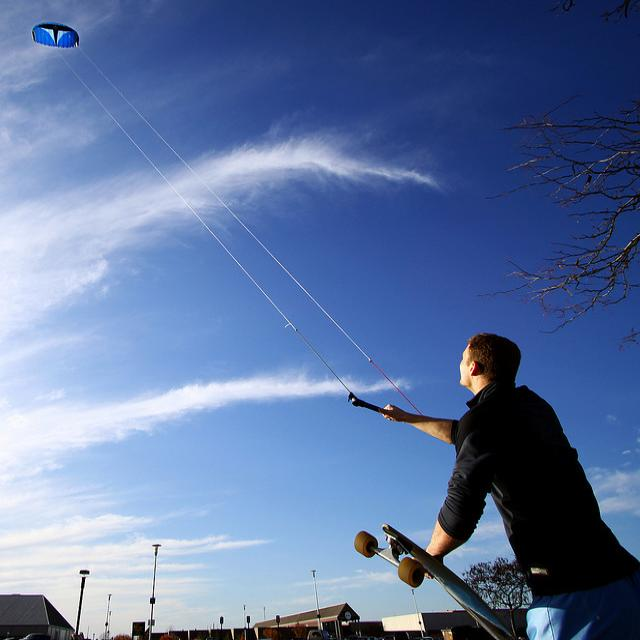Vehicle: (19, 633, 55, 640)
